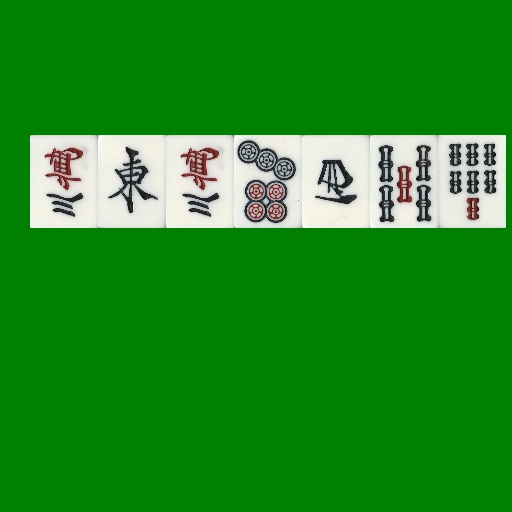3m: (30, 135, 98, 228), (166, 135, 234, 228)
5s: (370, 135, 438, 228)
7p: (234, 135, 302, 228)
7s: (438, 135, 506, 228)
east: (98, 135, 166, 228)
west: (302, 135, 370, 228)
